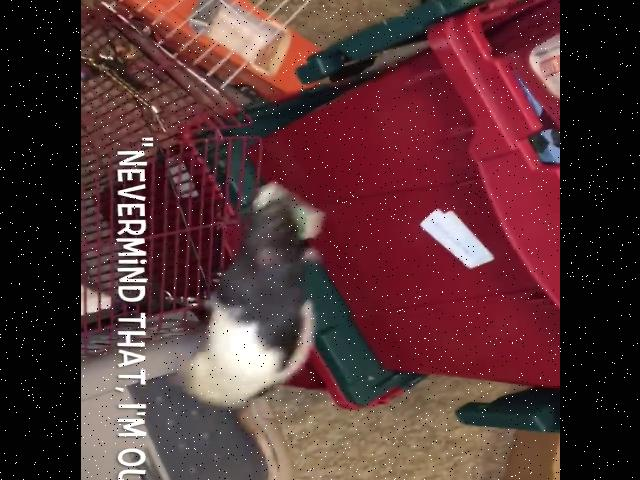Tikus: (172, 200, 318, 410)
